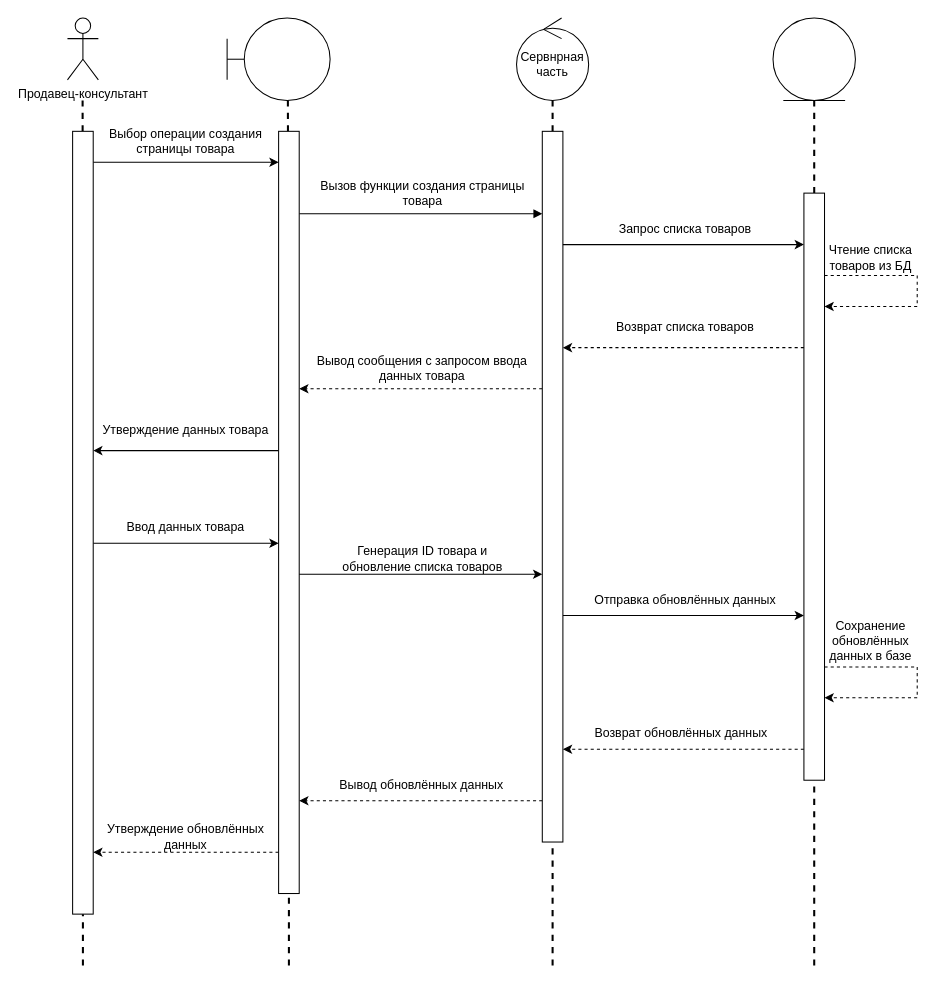
Some shapes in this 943 by 986 pixel diagram are drawn without their labels. Each missing label, with the centre of its shape:
"База данных" goes at [813,58].
"Веб-приложение" goes at [278,58].
